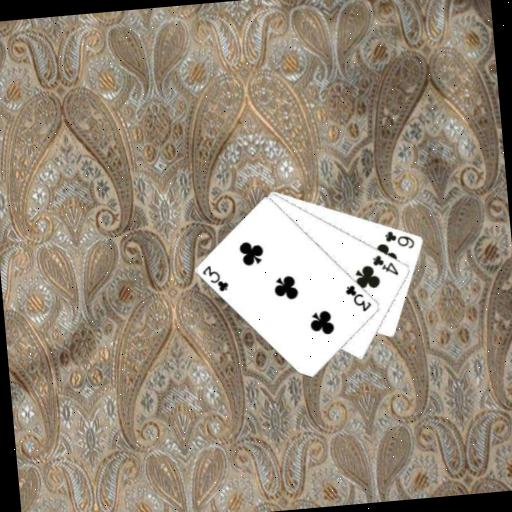3C: (342, 281, 374, 315), (199, 261, 231, 295)
4C: (369, 250, 400, 279)
6C: (382, 226, 417, 252)
